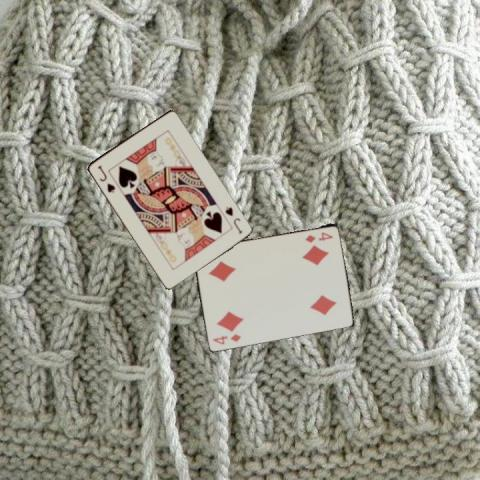4d: (209, 331, 242, 346), (302, 229, 334, 244)
Js: (94, 162, 116, 194), (222, 204, 244, 236)
